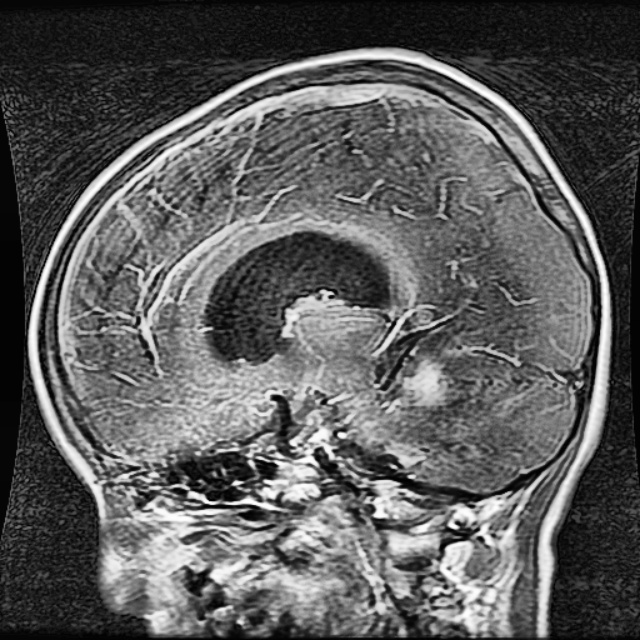Meningioma: (207, 228, 392, 362)
